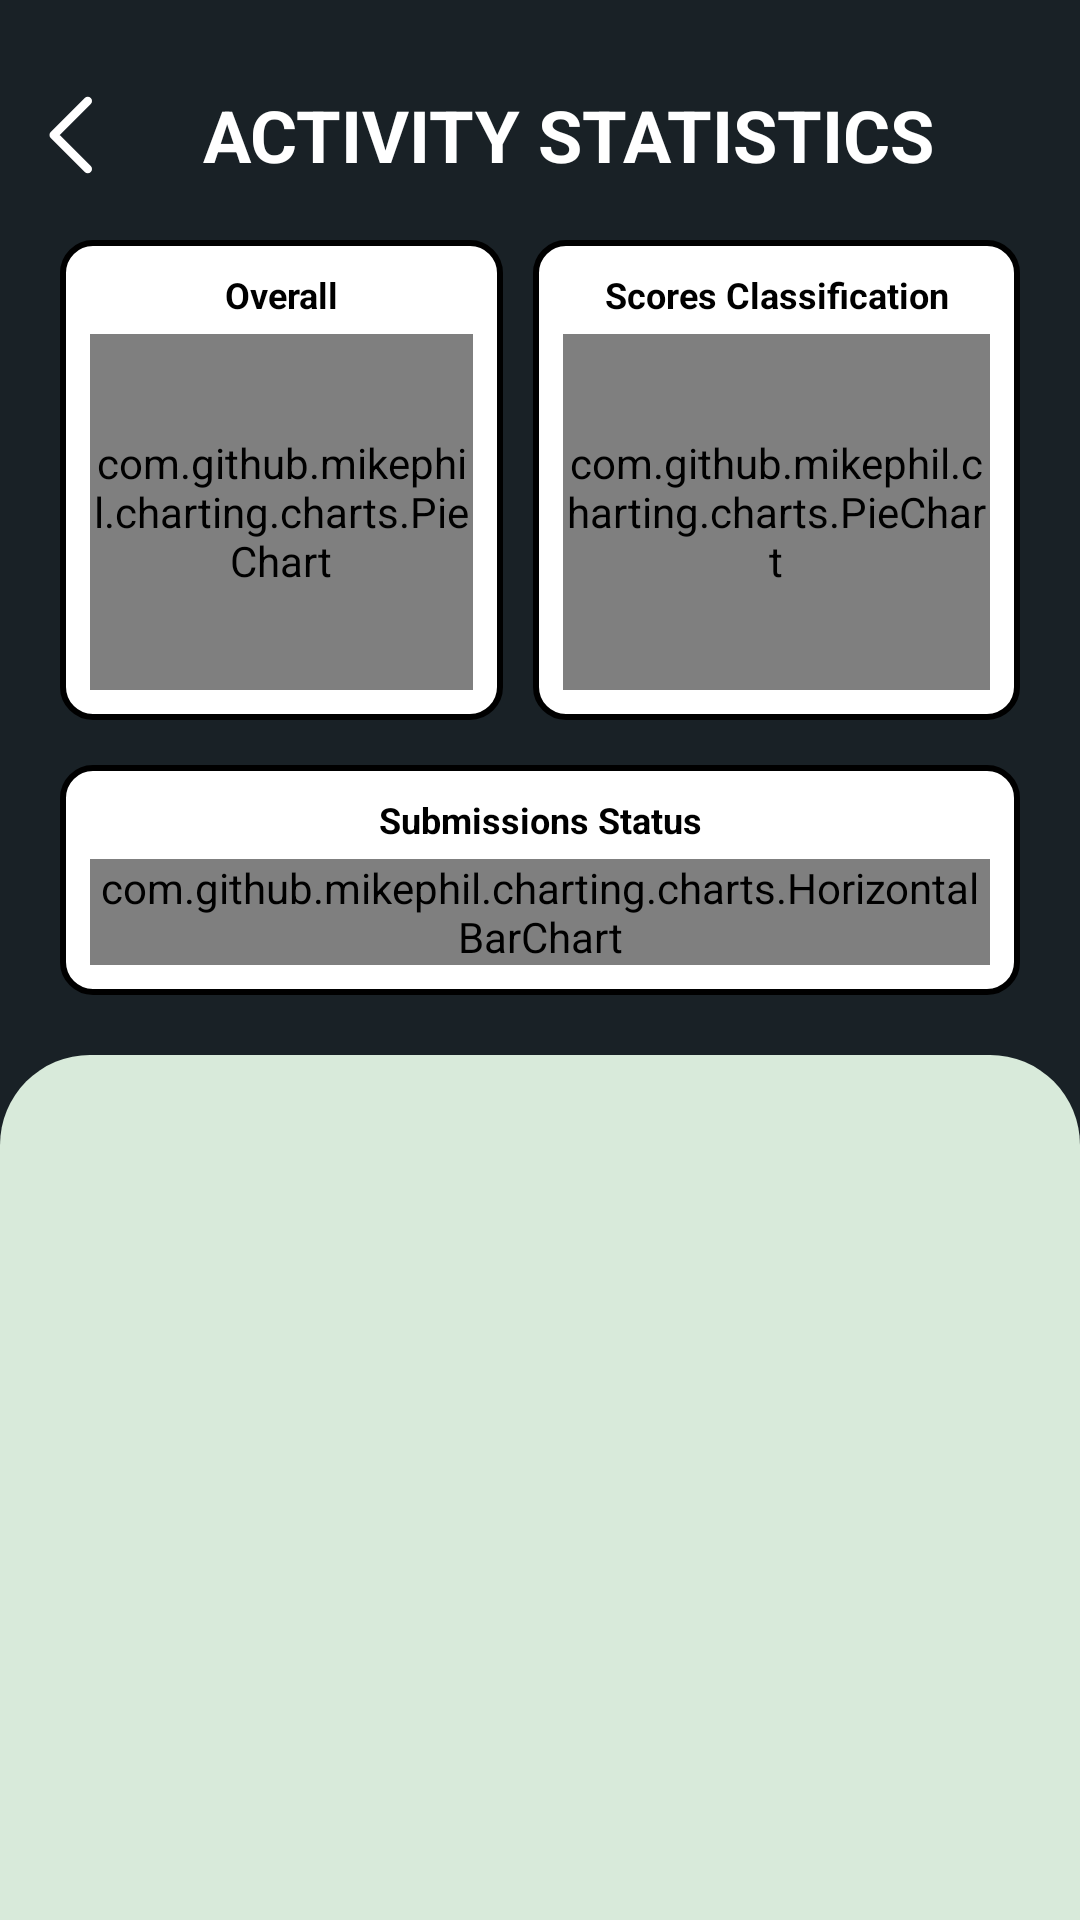

Icons on this 1080 × 1920 Android screen, each with the point to tap as (x=x, y=y):
Back: (x=70, y=135)
